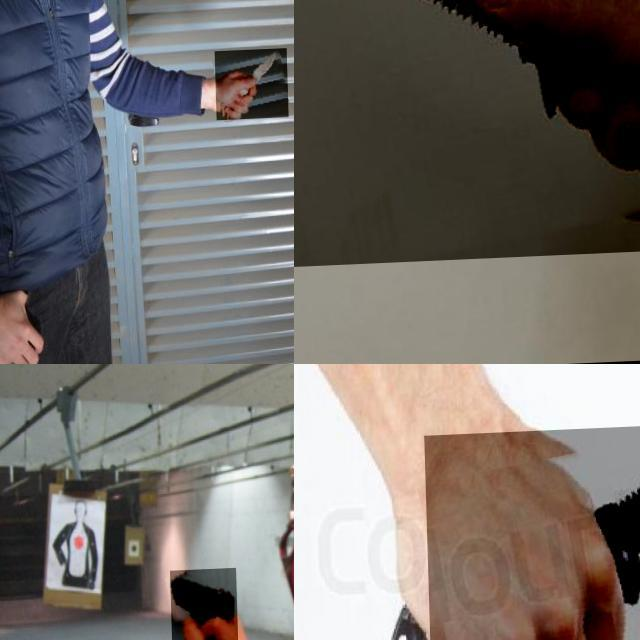-: (294, 0, 640, 269), (422, 422, 640, 640), (212, 52, 286, 124)
gun-knife-thesis - v11 Yolov5 augmented: (168, 570, 237, 640)
